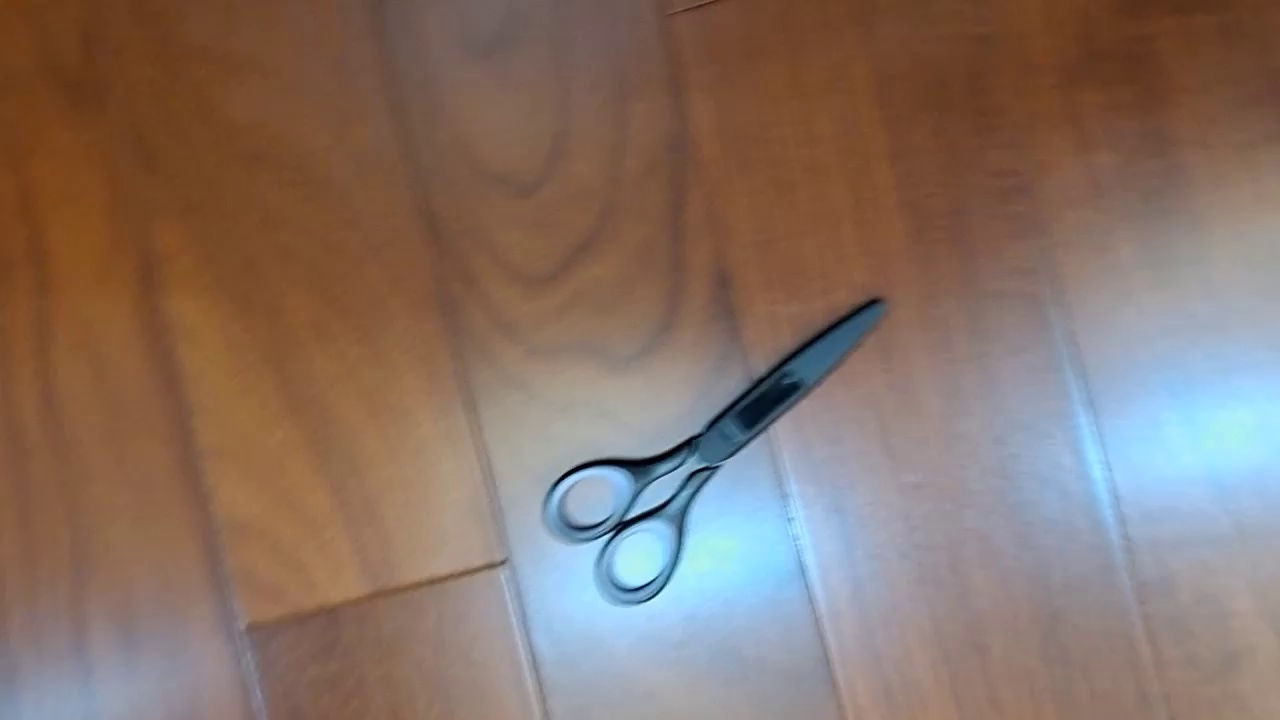scissors: (541, 295, 891, 607)
